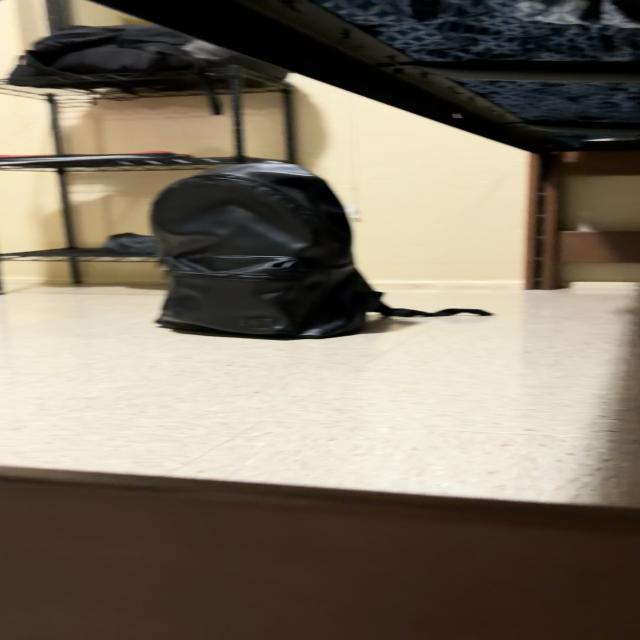backpack: (152, 161, 489, 338), (8, 25, 286, 93), (245, 75, 252, 85)
